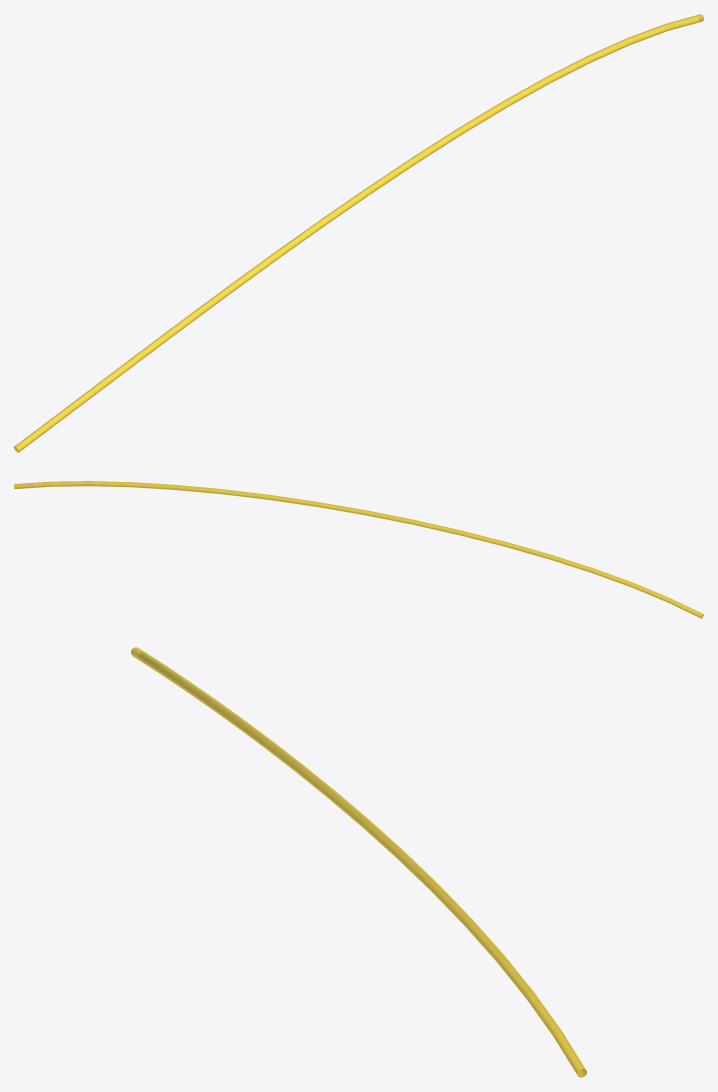
File: Event_17758602_track_159.fbx
The picture shows the model from 3 angles, top to bottom: view 1: azimuth 30°, elevation 25°; view 2: azimuth 150°, elevation 25°; view 3: azimuth 270°, elevation 25°; orthographic projection. The views are drawn at different scales.
Visible parts, largest first — view 1: Model; view 2: Model; view 3: Model.
Boxes of the visible parts, box(x1,y1,x2,y2) form: Model: box(14, 14, 703, 452); Model: box(14, 481, 703, 618); Model: box(131, 647, 586, 1077).
Size of the model in its own units: 5.17 by 0.7362 by 1.76.
